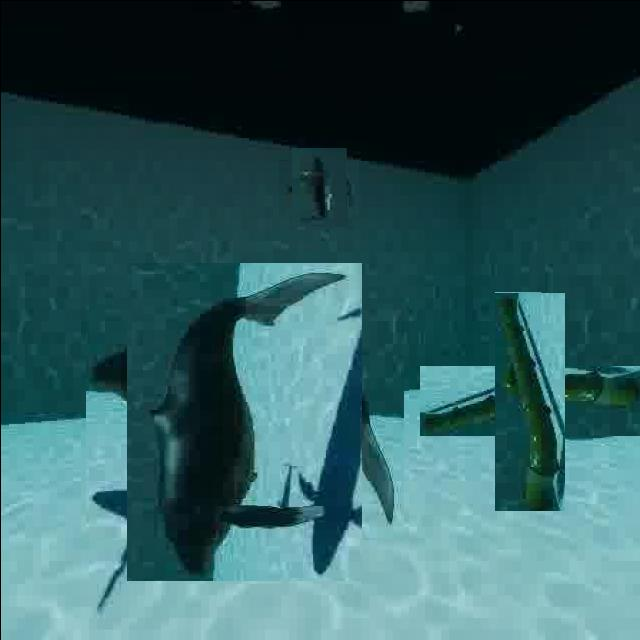Pipe: (456, 328, 601, 472)
Whale: (105, 282, 382, 560), (284, 152, 352, 220)
